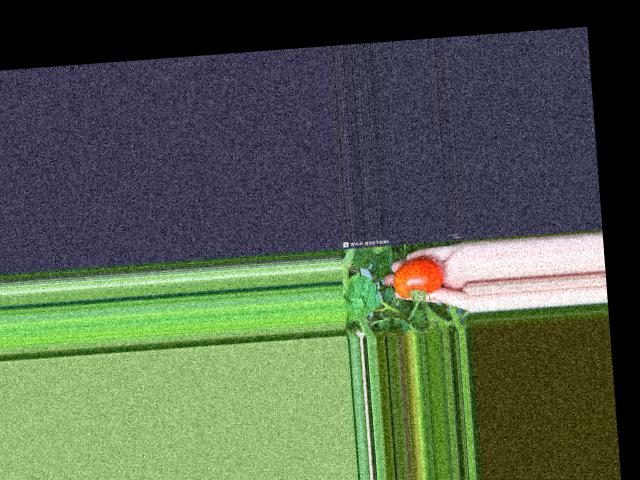tomato: (392, 256, 446, 298)
